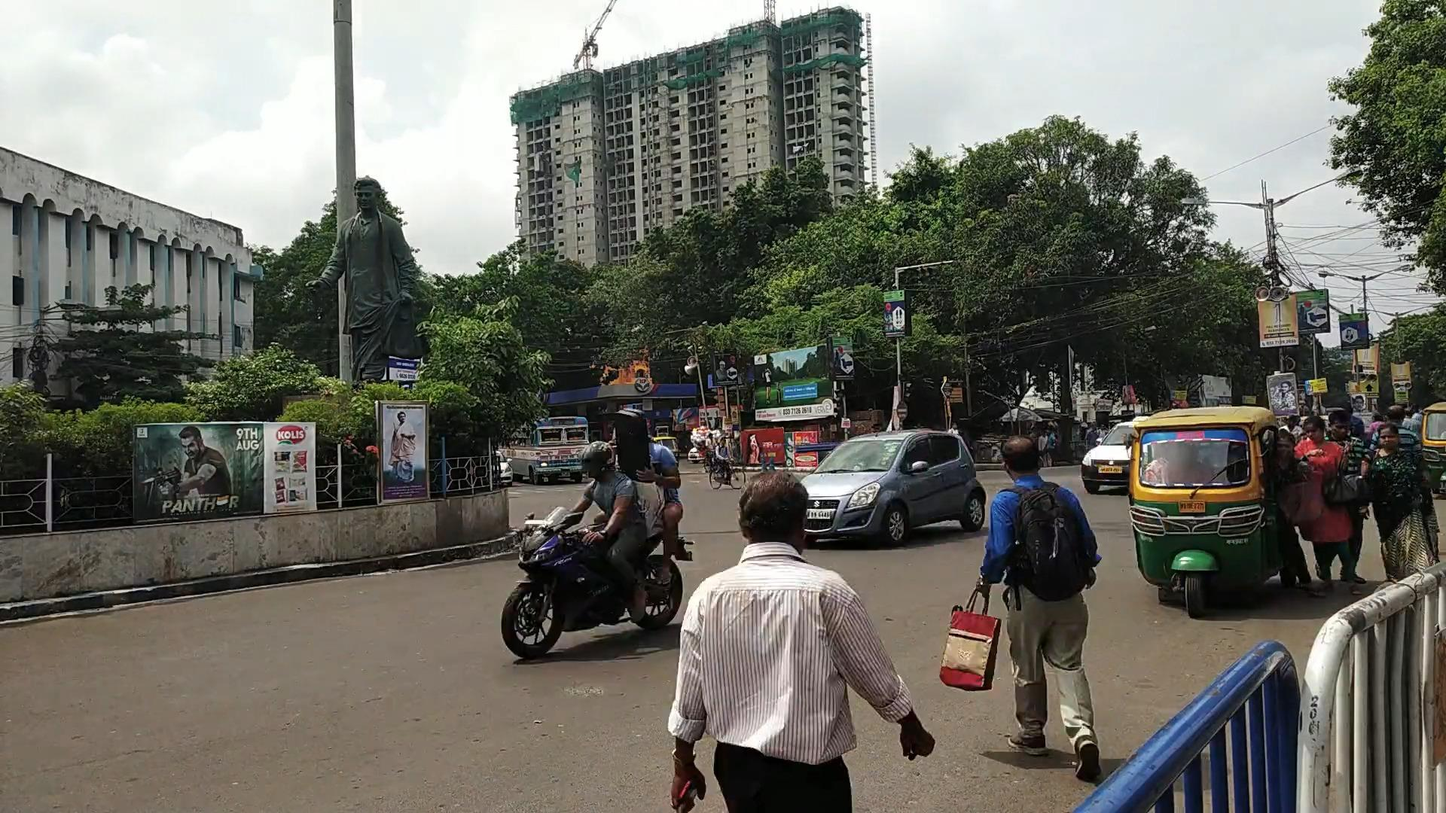bicyclist: (709, 437, 746, 490)
driver: (500, 405, 694, 660)
helmet: (579, 441, 614, 478)
no-helmet: (737, 471, 810, 555), (1001, 434, 1043, 482)
